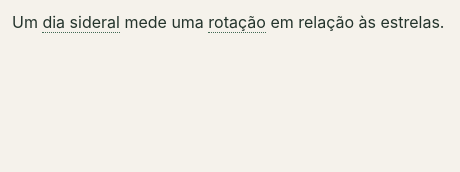
Test: GlossaryText › explica termos técnicos por toque e permite fechar a dica pelo teclado
The image size is (460, 172).
Click the button with aria-label "Explicação de dia sideral" at [81, 22], box [42,12,120,33]
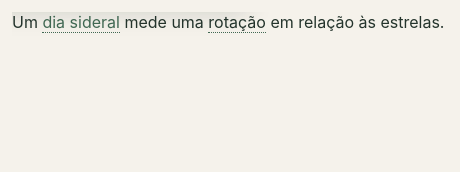
Expected: the button with aria-label "Explicação de dia sideral" is expanded
Press Escape in the button with aria-label "Explicação de dia sideral", box [42,12,120,33]
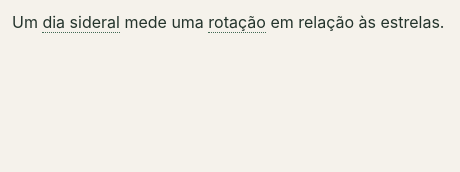
Expected: the button with aria-label "Explicação de dia sideral" is collapsed, [42,12,120,33]
